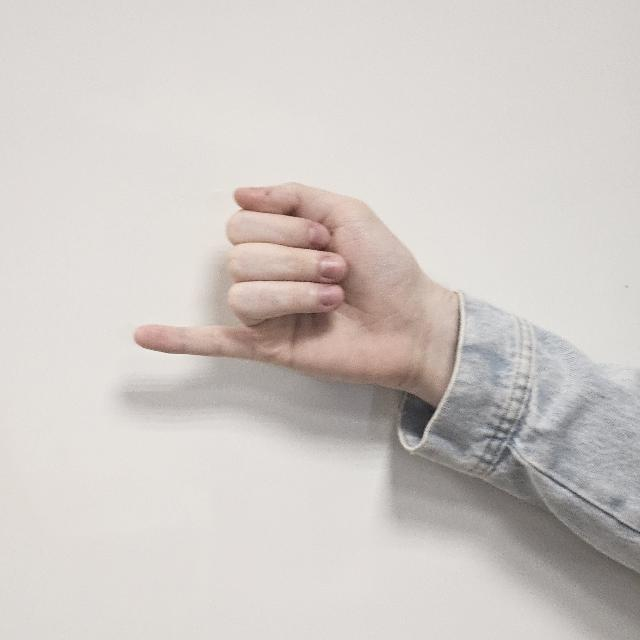Esquerda: (126, 153, 438, 395)
